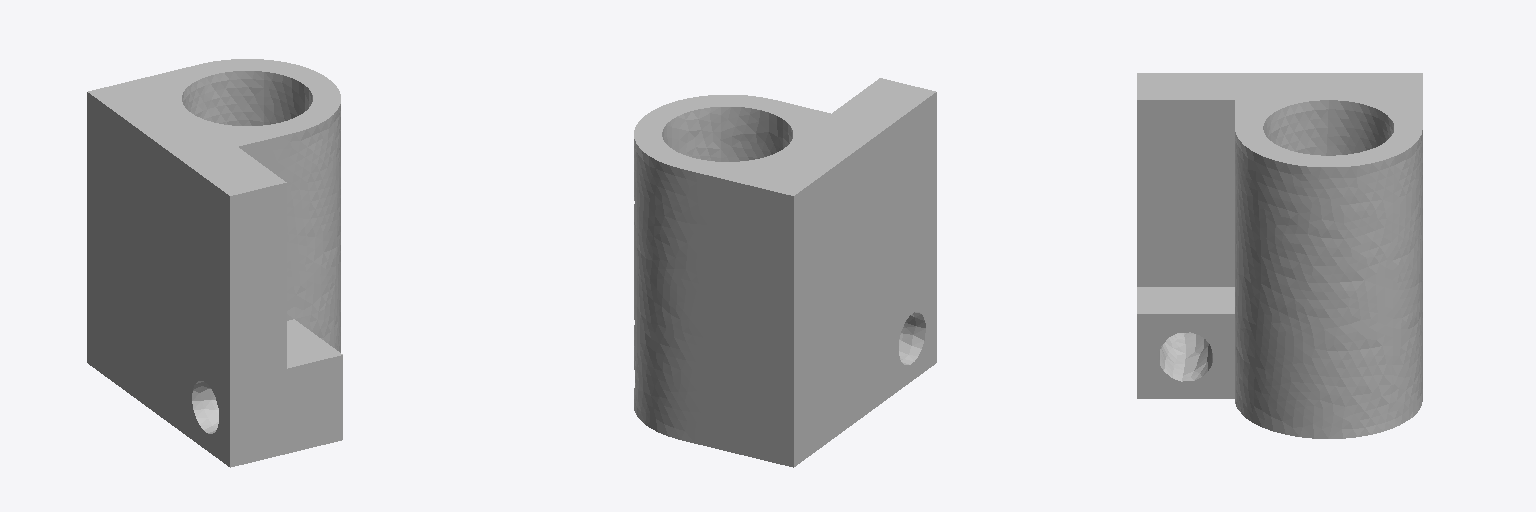
Rendered from joint_rem_p.obj.
The picture shows the model from 3 angles: view 1: azimuth 30°, elevation 25°; view 2: azimuth 150°, elevation 25°; view 3: azimuth 270°, elevation 25°; orthographic projection.
Size of the model in its own units: 0.7501 by 1 by 0.9542.